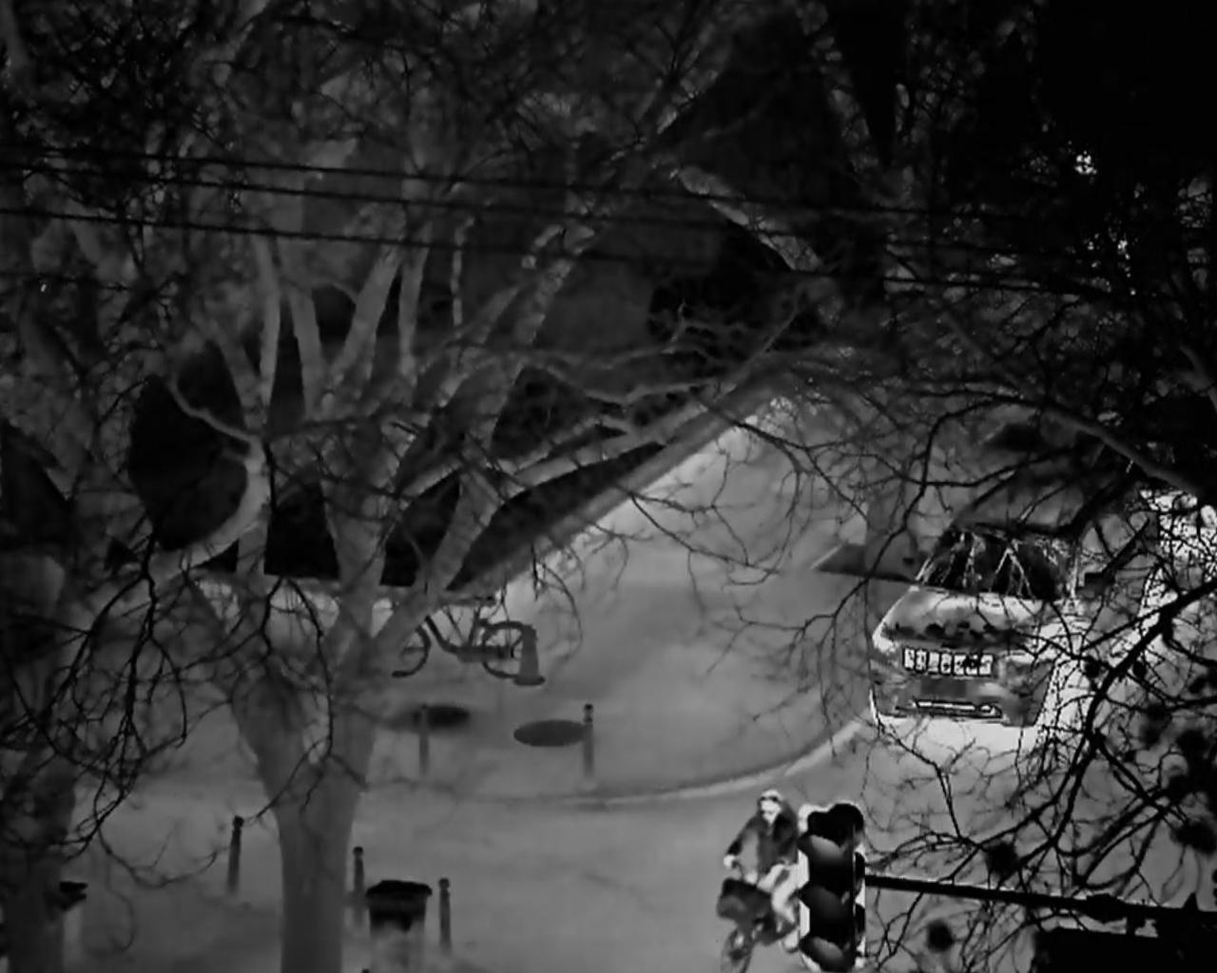person: (724, 787, 799, 950)
